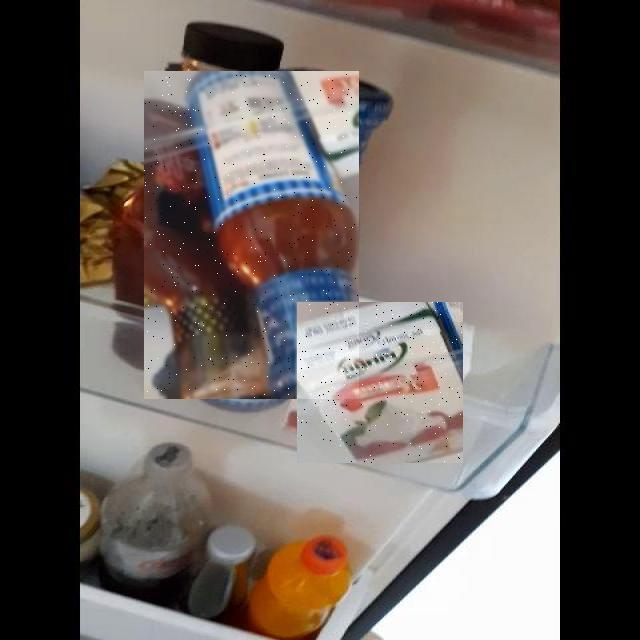cheese: (66, 232, 528, 640)
